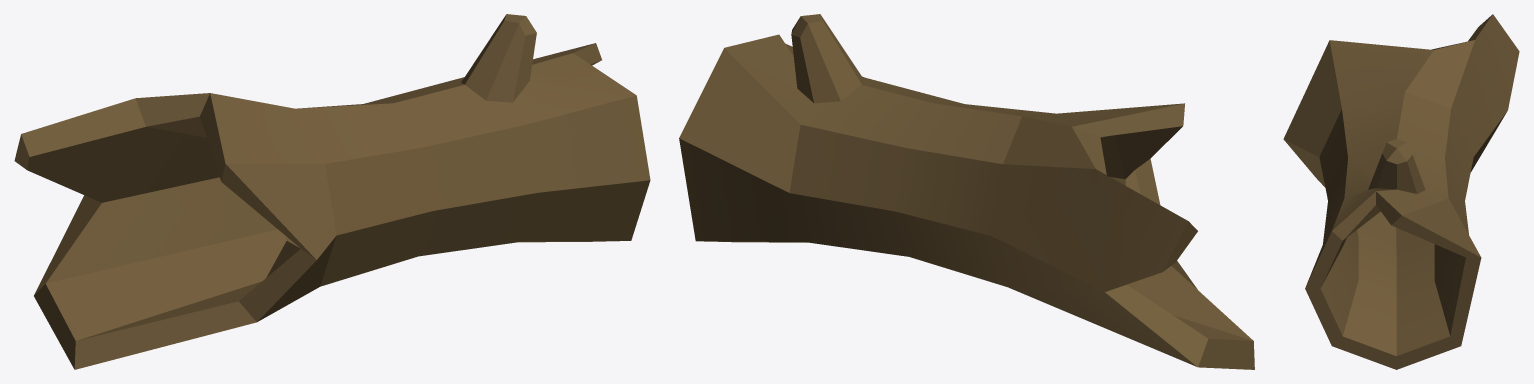
File: stump2.fbx
3 renders of one model, left to right at view 1: azimuth 30°, elevation 25°; view 2: azimuth 150°, elevation 25°; view 3: azimuth 270°, elevation 25°, orthographic. The views are drawn at different scales.
Parts seen in each view (by area): view 1: log_5; view 2: log_5; view 3: log_5.
Boxes of the visible parts, x1=… form: log_5: x1=14, y1=14, x2=650, y2=369; log_5: x1=679, y1=14, x2=1254, y2=369; log_5: x1=1283, y1=14, x2=1519, y2=369.
Size of the model in its own units: 288 by 128 by 138.
